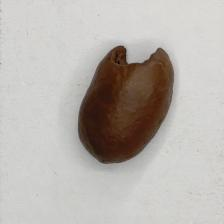NG: (103, 42, 166, 72)
